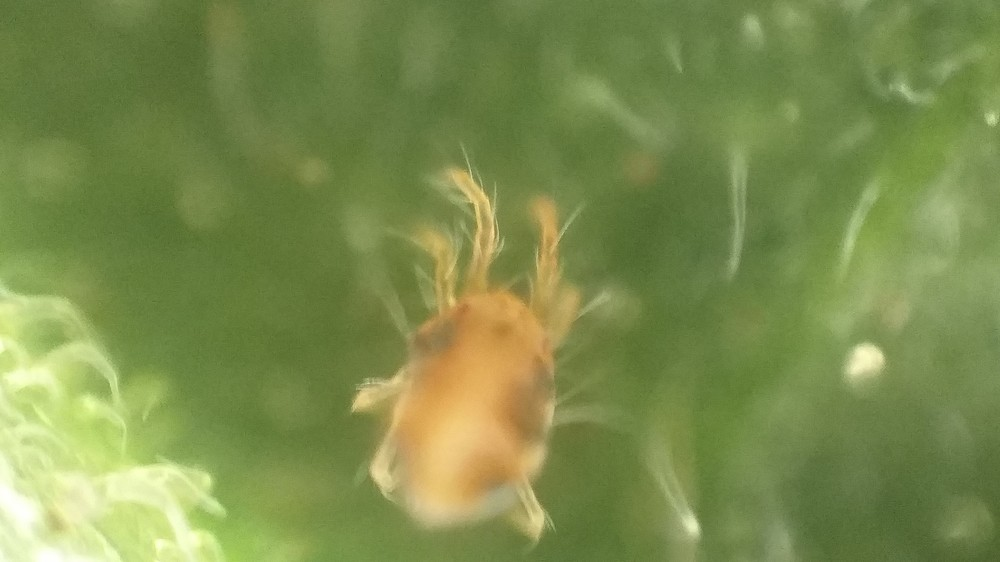Aracnido Rojo: (321, 160, 624, 553)
